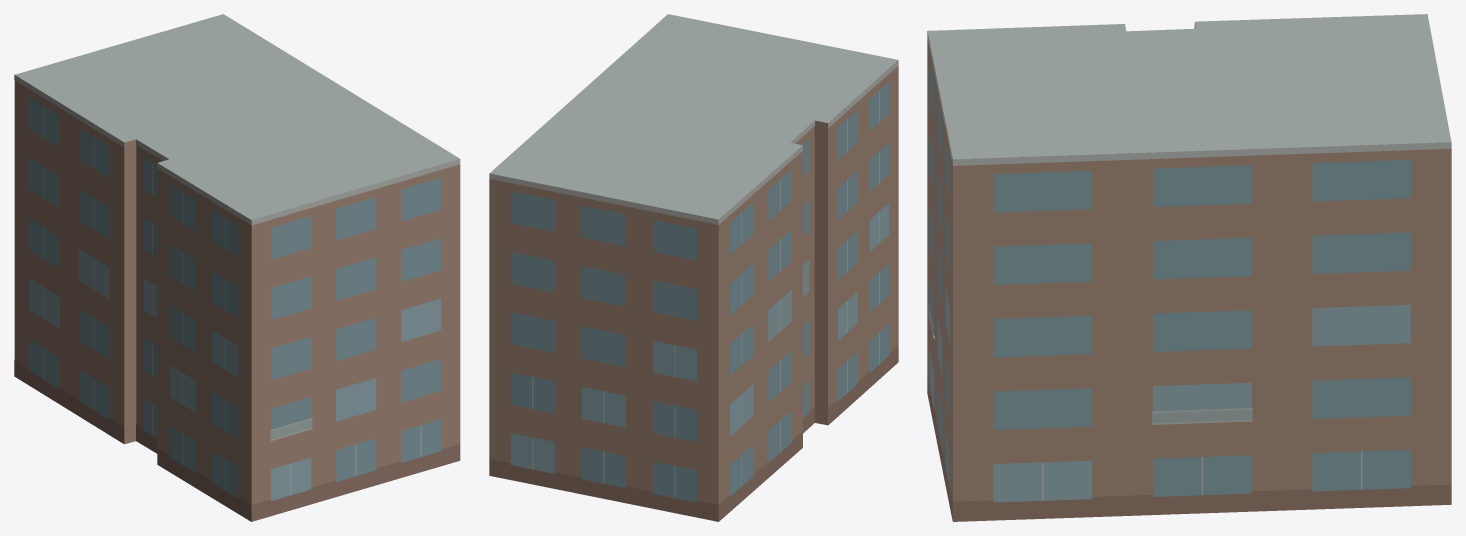
The model's file is survey-upis-32735902.glb.
3 views of the same model, side by side, from view 1: azimuth 30°, elevation 25°; view 2: azimuth 150°, elevation 25°; view 3: azimuth 270°, elevation 25° (orthographic). The views are drawn at different scales.
Parts seen in each view (by area): view 1: survey-upis-32735902.tmp; view 2: survey-upis-32735902.tmp; view 3: survey-upis-32735902.tmp.
Boxes of the visible parts, box(x1,y1,x2,y2) form: survey-upis-32735902.tmp: box(14, 14, 460, 521); survey-upis-32735902.tmp: box(489, 14, 898, 521); survey-upis-32735902.tmp: box(927, 14, 1451, 521).
Bounding box in the file's own units: 11.76 × 13.65 × 17.9.
